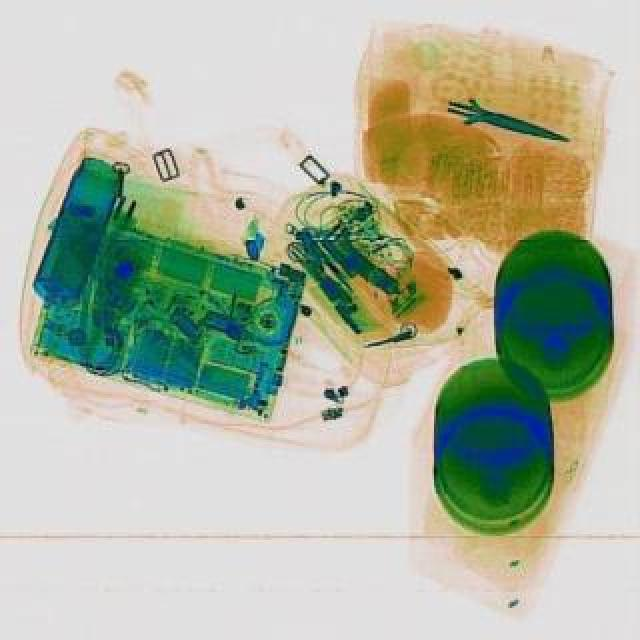knife: (442, 98, 572, 158)
